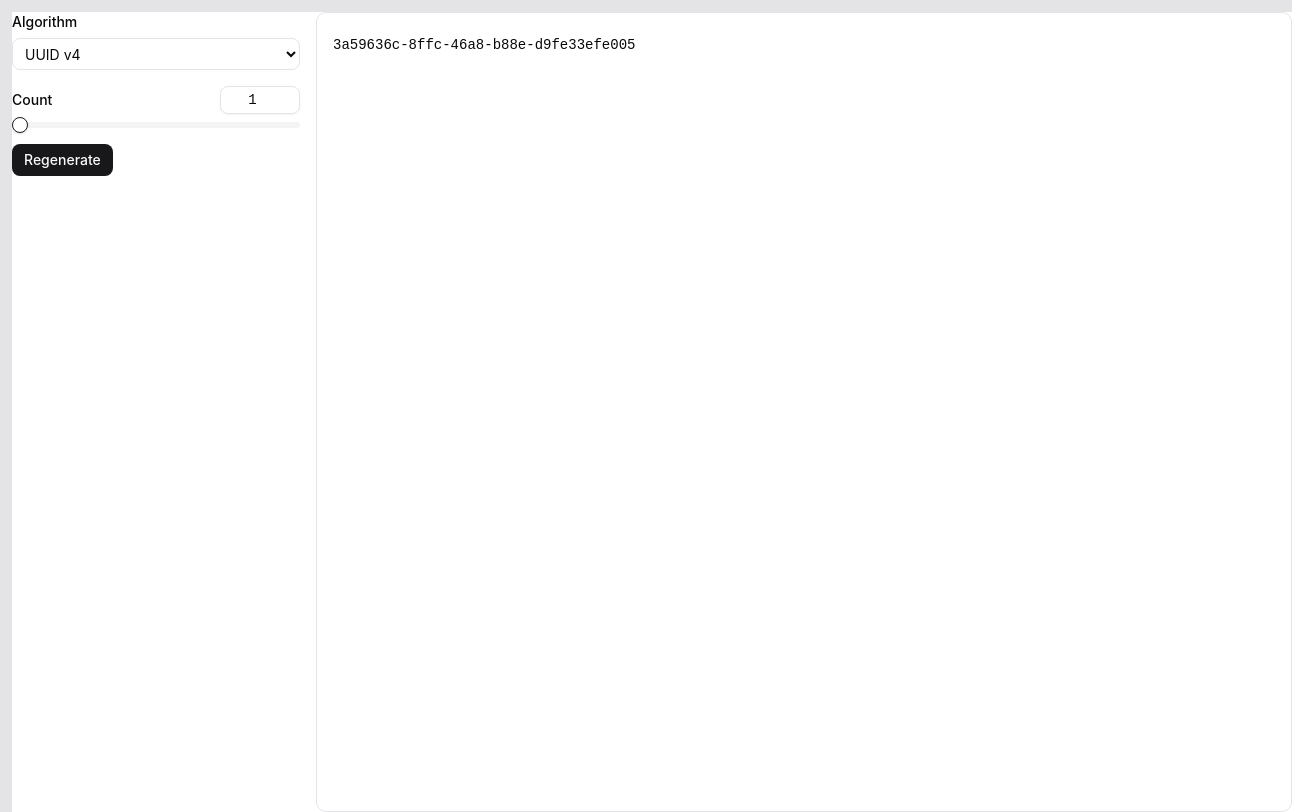
Test: v3 custom namespace input renders with custom option
This screenshot has width=1292, height=812.
Select "UUID v3" in the dropdown at (156,54), box [12, 38, 300, 70]
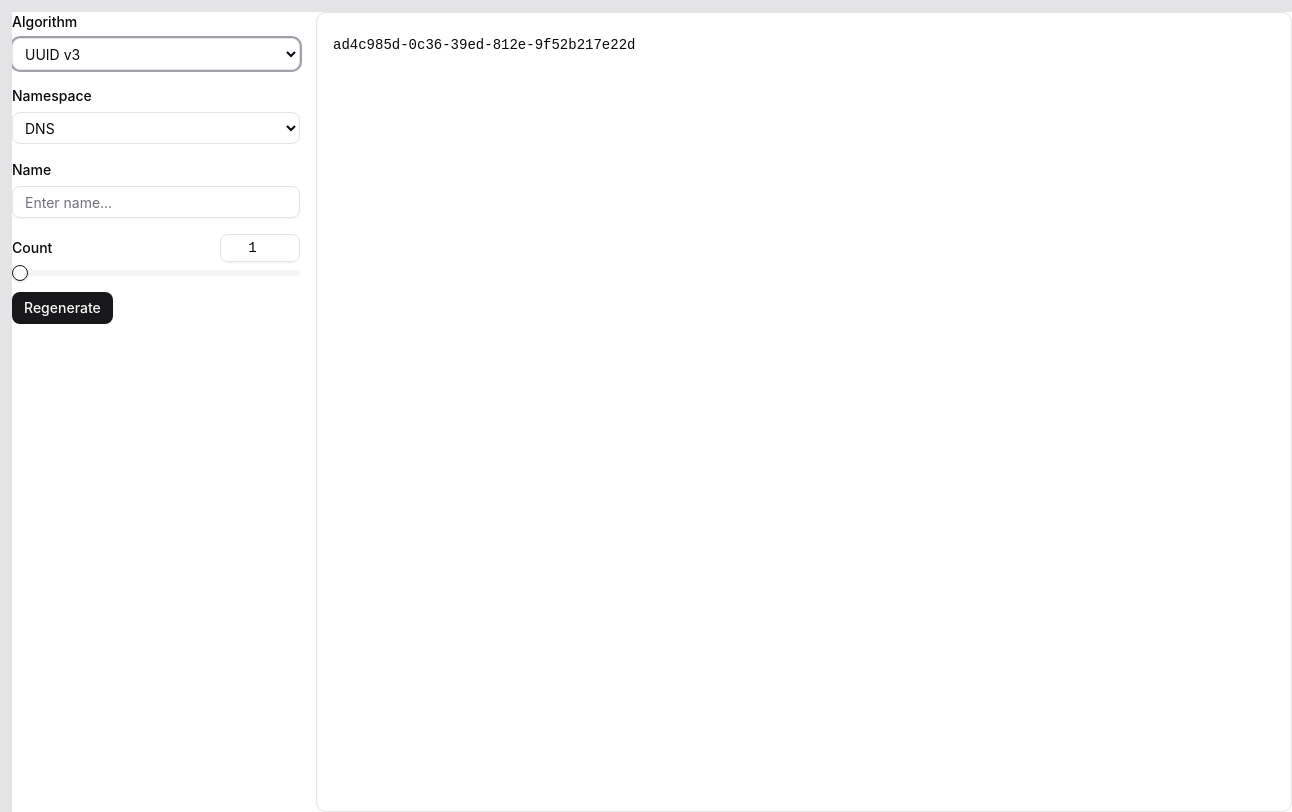
Select "Custom" in the dropdown below "Namespace" at (156,128), box [12, 112, 300, 144]
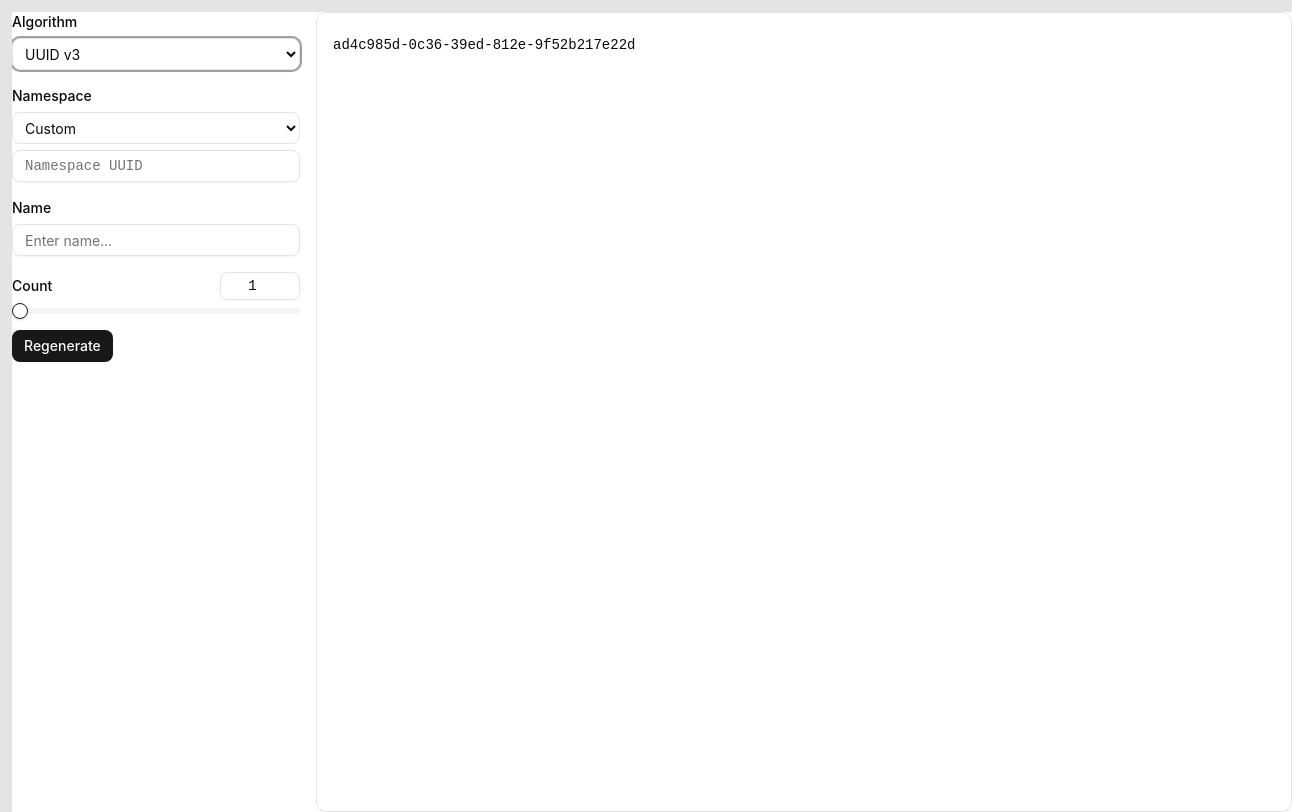
Expected: the field with placeholder "Namespace UUID" is shown, [12, 150, 300, 182]
